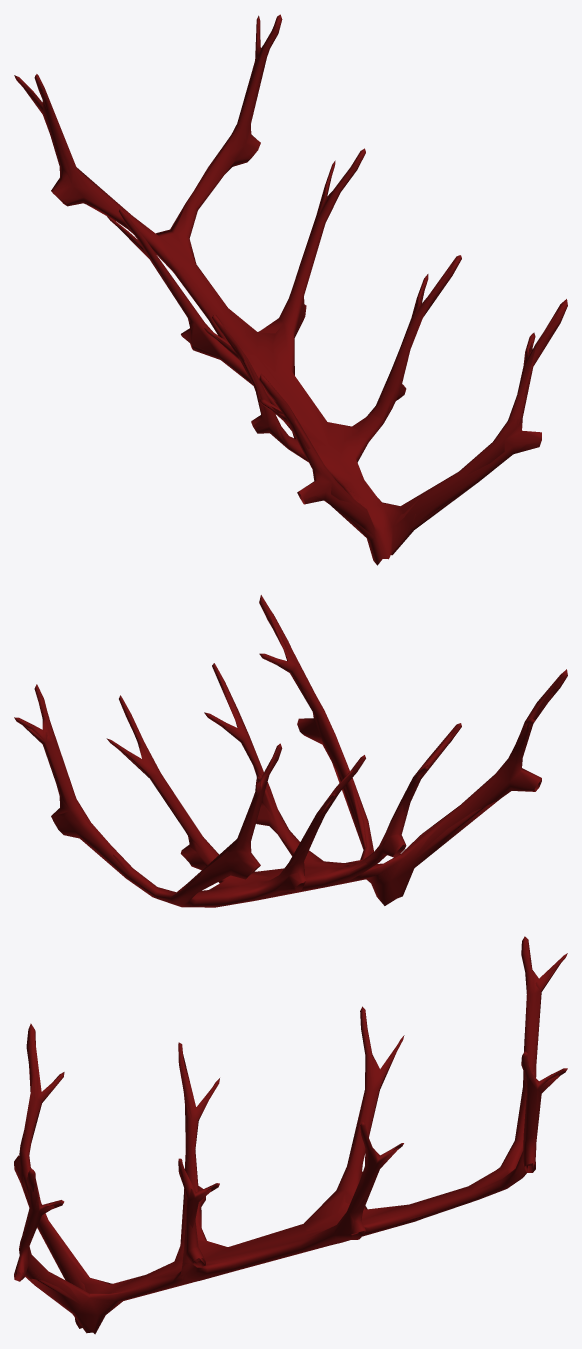
Rendered from intercostalis suprema.fbx.
3 renders of one model, top to bottom at view 1: azimuth 30°, elevation 25°; view 2: azimuth 150°, elevation 25°; view 3: azimuth 270°, elevation 25°, orthographic. The views are drawn at different scales.
Visible parts, largest first — view 1: intercostalis suprema, intercostalis suprema low; view 2: intercostalis suprema, intercostalis suprema low; view 3: intercostalis suprema, intercostalis suprema low.
Part boxes in pixels (x1,y1,x2,y2): intercostalis suprema: [14, 14, 567, 565]; intercostalis suprema low: [21, 20, 566, 562]; intercostalis suprema: [14, 595, 567, 907]; intercostalis suprema low: [21, 603, 564, 907]; intercostalis suprema: [14, 936, 567, 1334]; intercostalis suprema low: [14, 940, 561, 1332].
Size of the model in its own units: 6.61 by 7.29 by 10.67.
